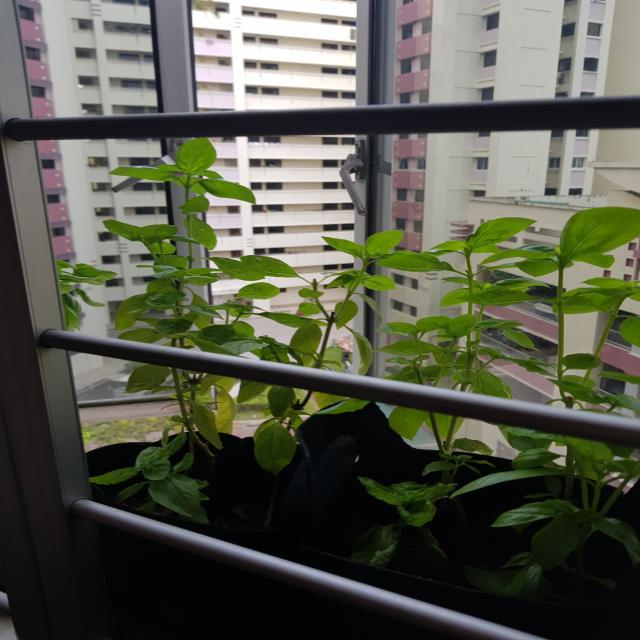Sweet Basil: (80, 143, 397, 459), (422, 201, 640, 563)
